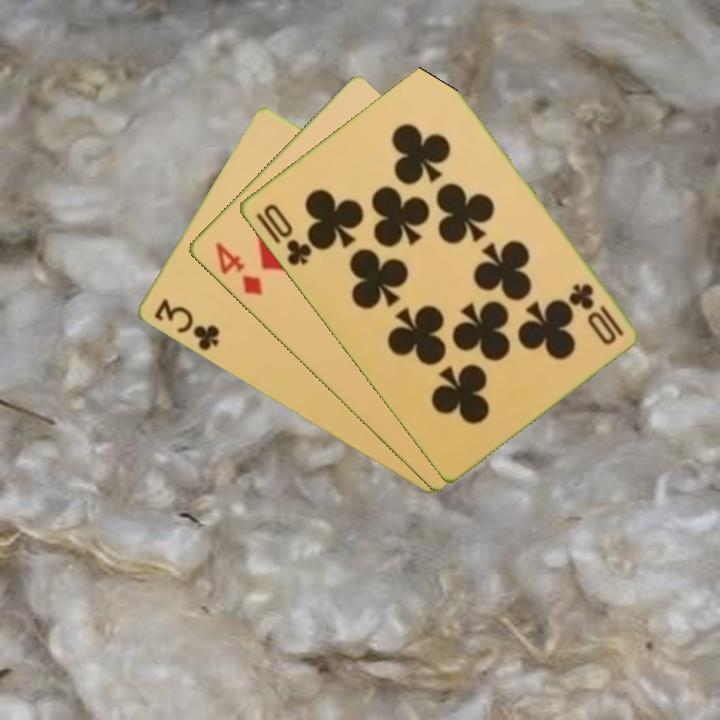10c: (251, 200, 315, 269), (565, 280, 627, 348)
3c: (150, 295, 222, 354)
4d: (211, 238, 266, 299)
